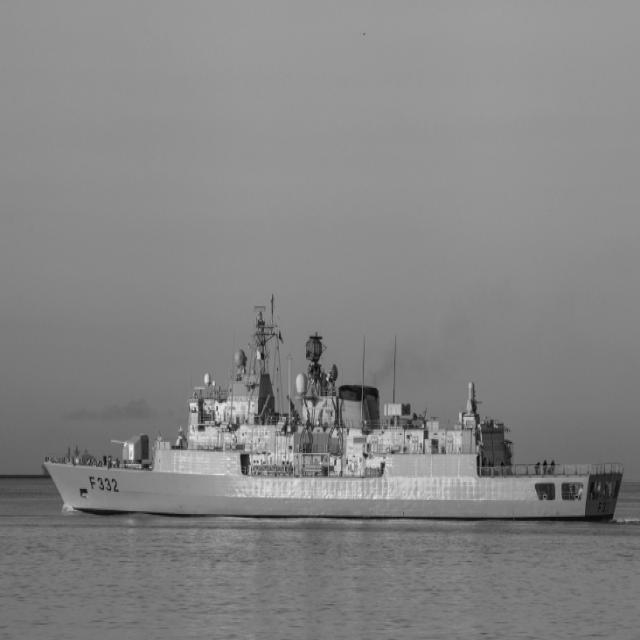Fragata: (39, 300, 627, 525)
